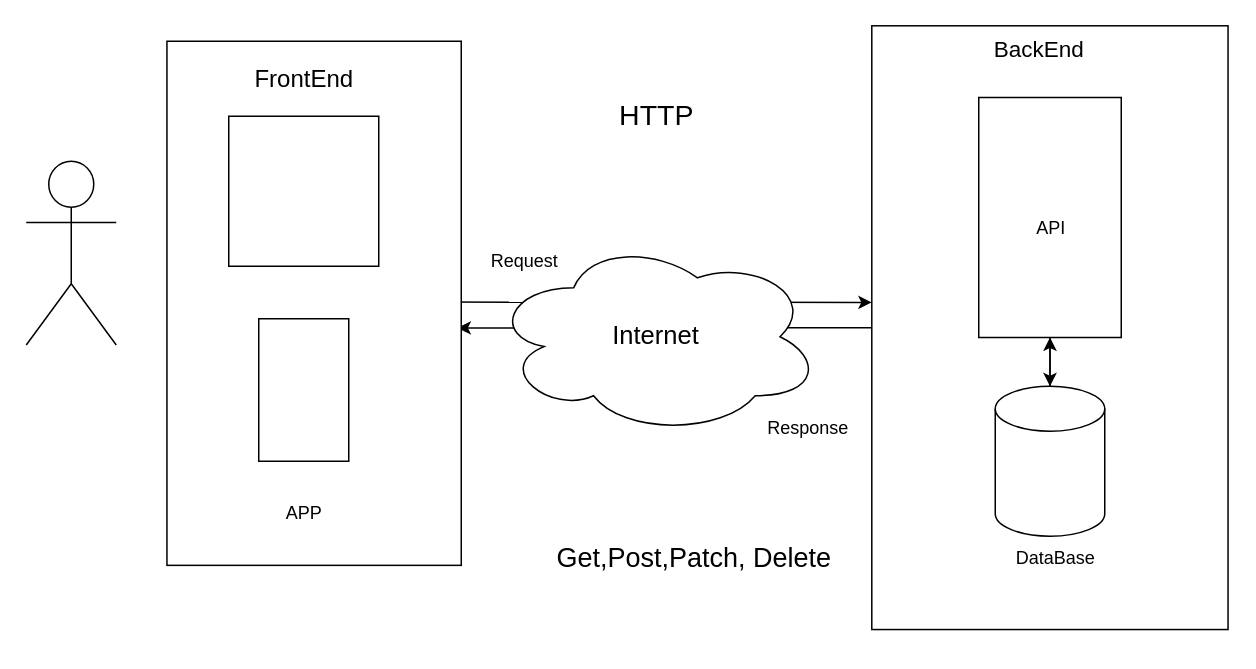
Image size: 1256x669. Some labels were removed from this diagram. The centre of each missing label's shape, as x and y in pixels:
Actor: point (70, 252)
Navegador: point (303, 190)
